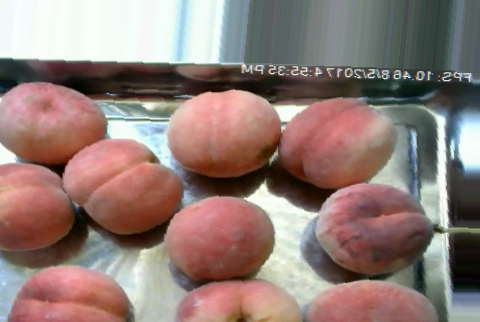Peach: (61, 136, 182, 234), (279, 97, 399, 189), (316, 182, 433, 276), (166, 87, 280, 178), (164, 195, 275, 280), (0, 80, 108, 165), (6, 264, 133, 322), (0, 162, 74, 251), (175, 277, 303, 321), (306, 280, 440, 322)
